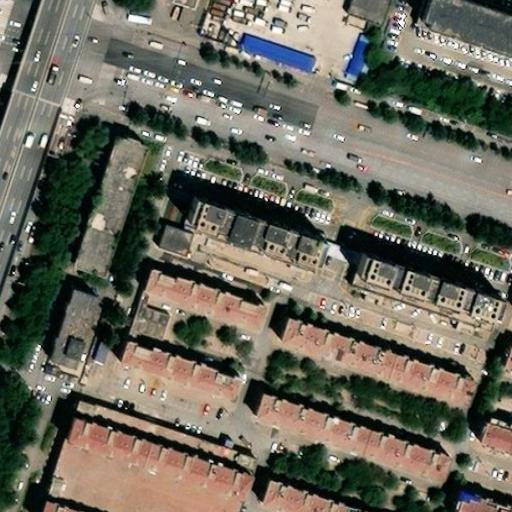building: (275, 313, 477, 424), (253, 393, 455, 495), (73, 412, 257, 512), (60, 434, 243, 512), (67, 152, 146, 294), (347, 263, 497, 337), (172, 210, 305, 280), (103, 342, 229, 411), (114, 231, 184, 353), (43, 298, 115, 400), (131, 270, 251, 331), (243, 46, 317, 82), (450, 488, 512, 512), (349, 45, 379, 93), (313, 250, 356, 281), (35, 496, 93, 512), (497, 332, 511, 371), (124, 4, 151, 23)
